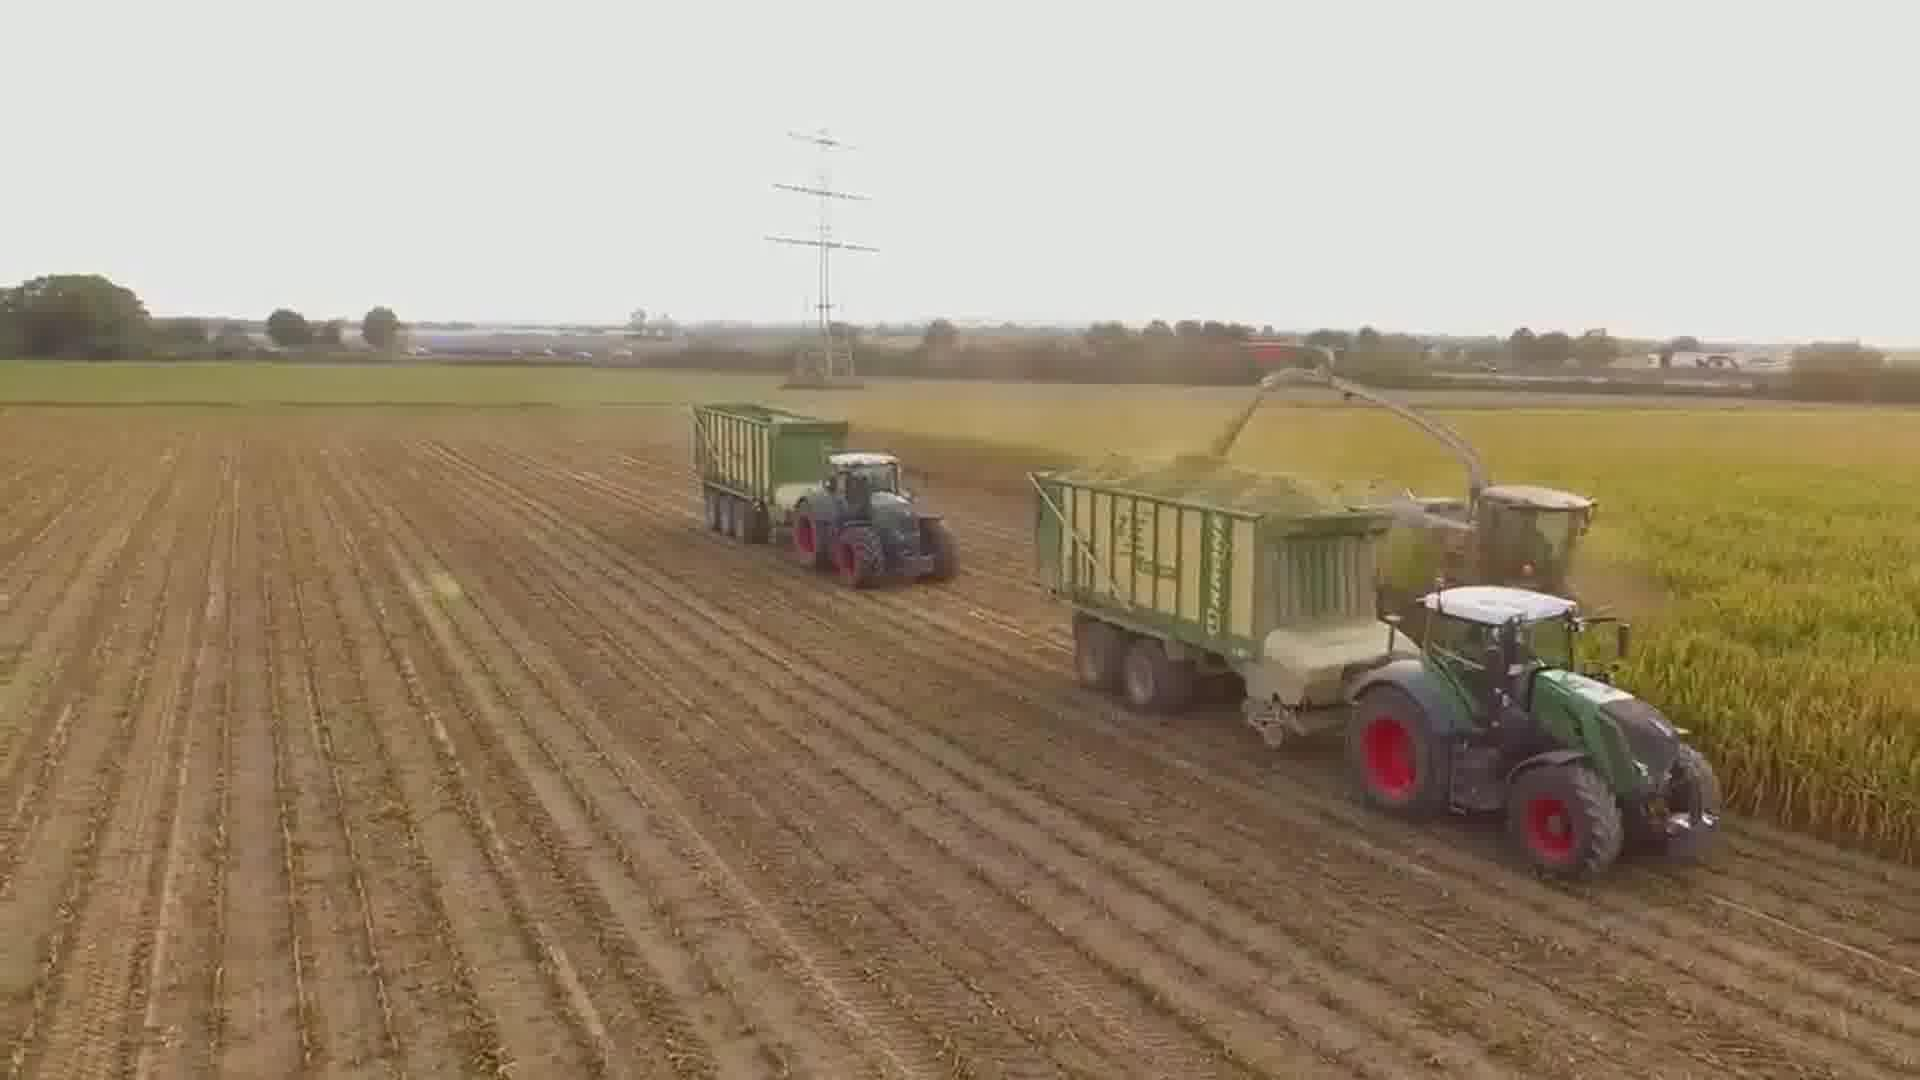combine harvester: (1253, 353, 1600, 604)
tractor: (1338, 570, 1727, 886), (787, 446, 965, 593)
trailer: (1025, 448, 1422, 753), (686, 397, 851, 547)
